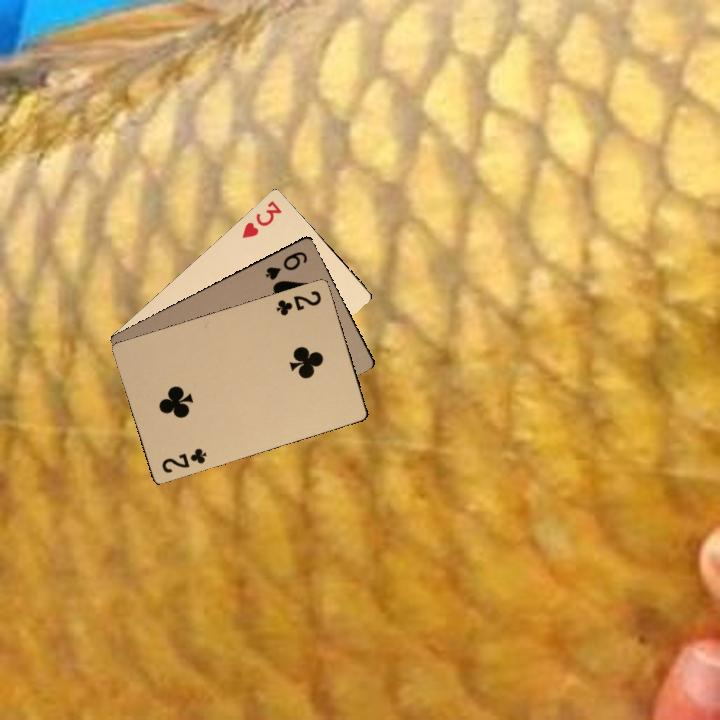2c: (272, 286, 324, 318), (158, 444, 209, 475)
3h: (238, 196, 284, 241)
6s: (261, 247, 310, 283)
